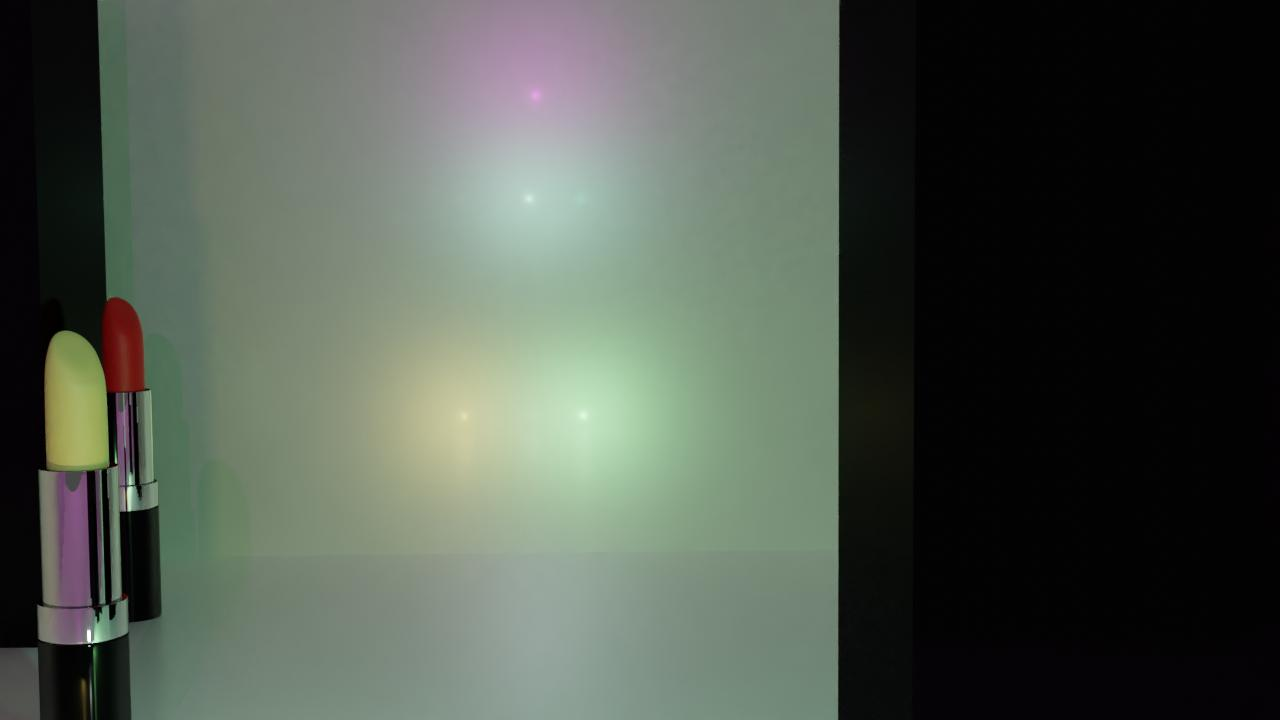CLASSIFIER_NAME: (34, 325, 136, 720), (94, 293, 163, 623)
